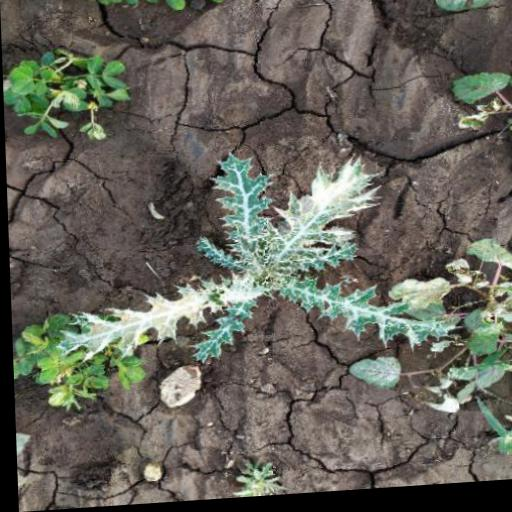weed: (47, 124, 512, 456), (1, 27, 156, 142)
